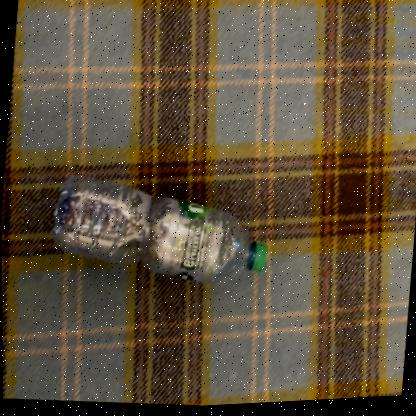Plastic: (51, 178, 265, 285)
